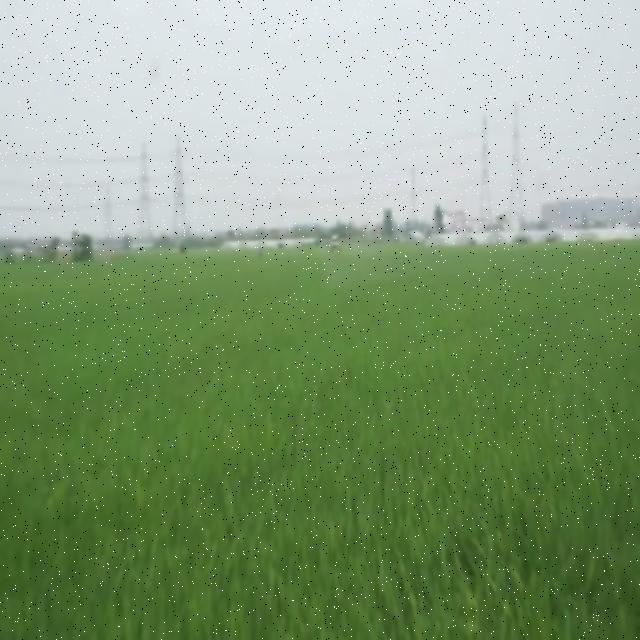UAV: (320, 232, 352, 253)
